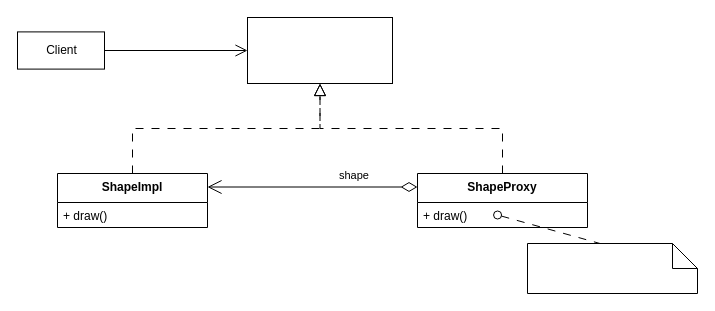
This 715x311 diagram has some shape labels left out. Here are the shapes that lost their labels. From the top down, the centre of each, then its label:
At (319,50): "<<Interface>> Shape + draw()".
At (612,268): "this.shape.draw() // some code...".
